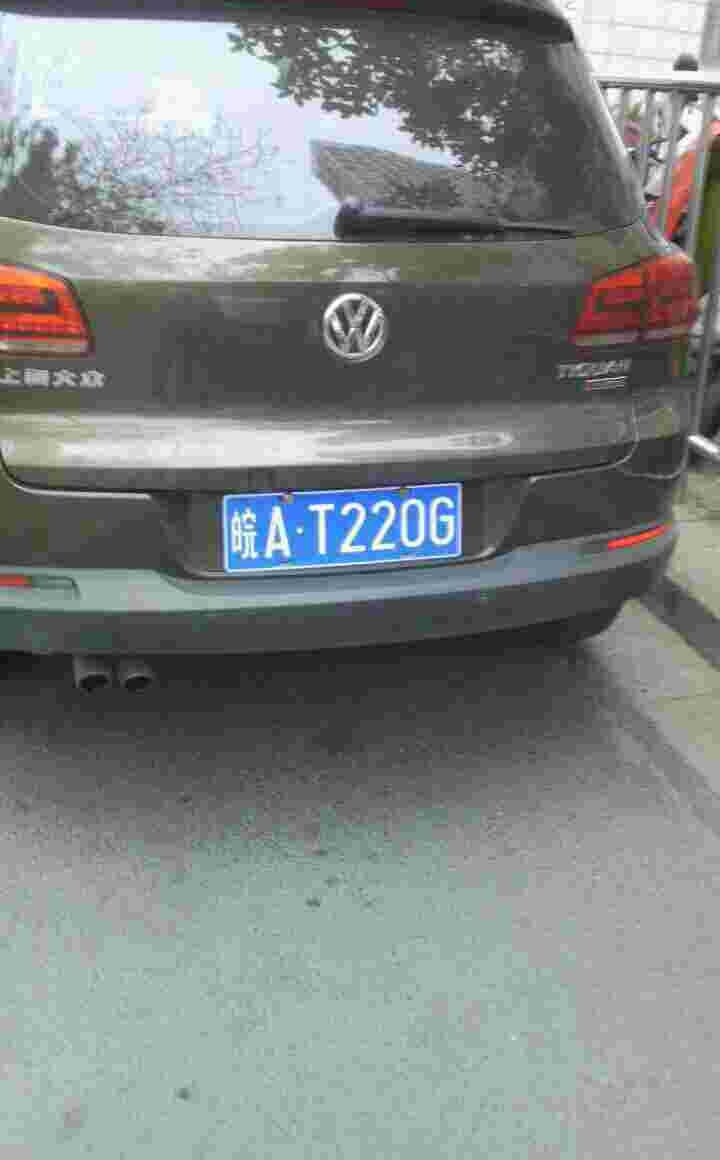plate: (229, 479, 468, 576)
